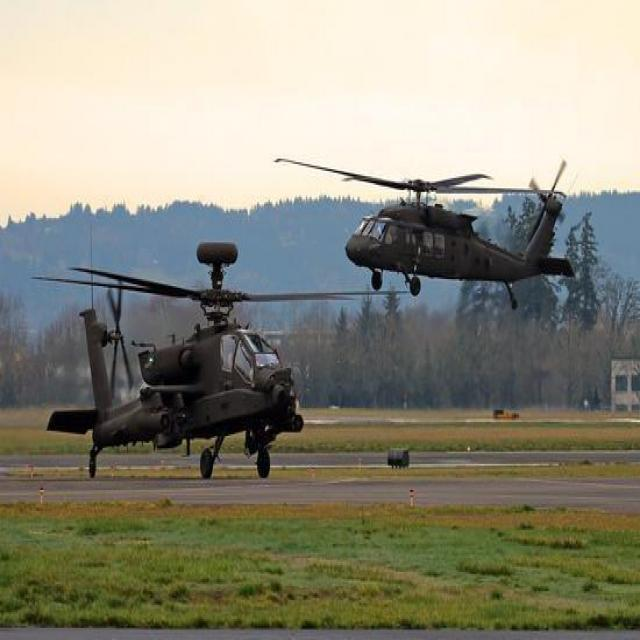MIL_HELO: (40, 220, 407, 478), (269, 144, 588, 306)
